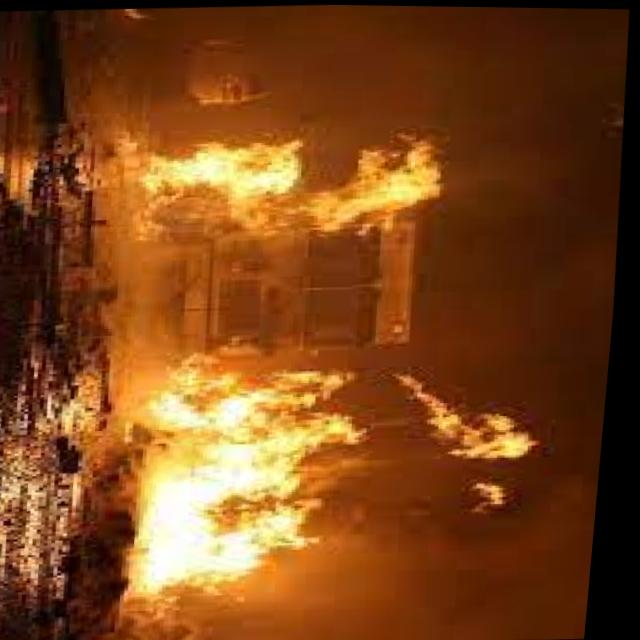Fire: (121, 333, 577, 606), (132, 118, 461, 234)
